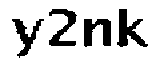2: (47, 5, 77, 54)
k: (116, 5, 148, 52)
n: (81, 14, 113, 53)
y: (9, 16, 44, 60)
